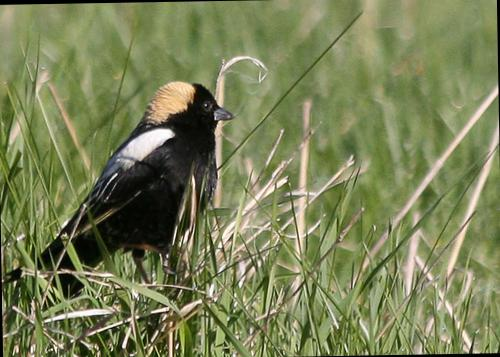bird: (0, 72, 246, 318)
